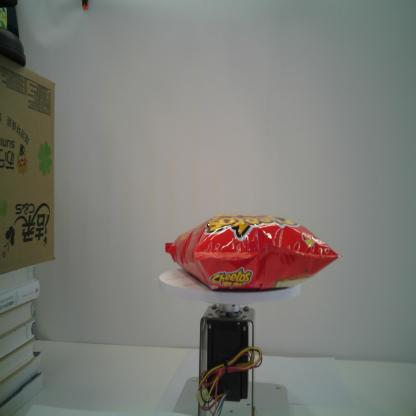Puffed Food: (160, 210, 342, 291)
